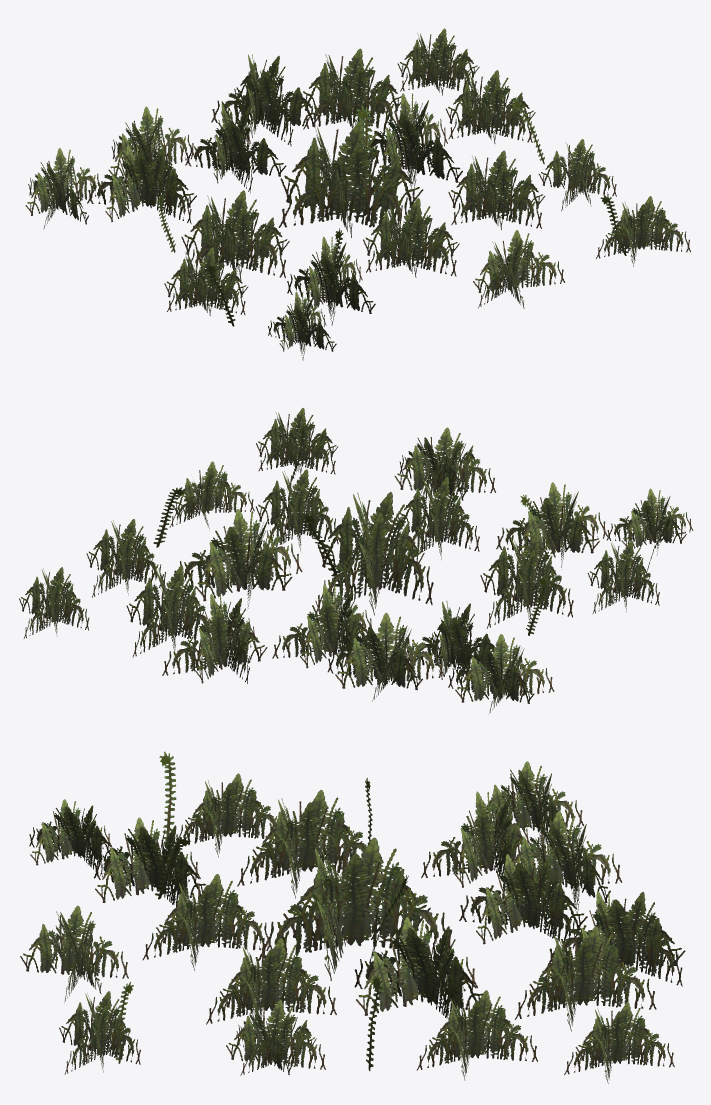
The model's file is grass2_7.obj.
3 renders of one model, top to bottom at view 1: azimuth 30°, elevation 25°; view 2: azimuth 150°, elevation 25°; view 3: azimuth 270°, elevation 25°, orthographic. The views are drawn at different scales.
Visible parts, largest first — view 1: Object002, Object005, Object035, Object026, Object046, Object016, Object029, Object038, Object034, Object017, Object012, Object028 (+32 smaller); view 2: Object005, Object004, Object015, Object014, Object047, Object037, Object045, Object011, Object041, Object028, Object021, Object033 (+33 smaller); view 3: Object002, Object004, Object027, Object035, Object014, Object013, Object026, Object036, Object016, Object030, Object039, Object032 (+40 smaller).
Part boxes in pixels (box(x1,y1,x2,y2)): Object002: box(280, 119, 411, 236); Object005: box(278, 143, 423, 227); Object035: box(181, 190, 285, 278); Object026: box(302, 48, 400, 130); Object046: box(211, 71, 321, 126); Object016: box(363, 112, 462, 182); Object029: box(363, 198, 456, 276); Object038: box(448, 150, 541, 228); Object034: box(185, 120, 286, 176); Object017: box(87, 152, 196, 207); Object012: box(473, 230, 565, 292); Object028: box(303, 65, 401, 129); Object005: box(317, 492, 433, 604); Object004: box(315, 512, 424, 615); Object015: box(173, 526, 292, 590); Object014: box(195, 509, 302, 601); Object047: box(335, 613, 444, 688); Object037: box(480, 533, 573, 617); Object045: box(162, 610, 267, 675); Object011: box(394, 427, 495, 493); Object041: box(455, 634, 554, 702); Object028: box(126, 565, 212, 642); Object021: box(496, 498, 599, 553); Object033: box(272, 600, 370, 658); Object002: box(258, 853, 430, 961); Object004: box(283, 837, 452, 954); Object027: box(529, 926, 656, 1009); Object035: box(237, 802, 362, 886); Object014: box(354, 928, 482, 1009); Object013: box(20, 905, 128, 978); Object026: box(515, 938, 635, 1019); Object036: box(252, 790, 382, 873); Object016: box(356, 917, 477, 1015); Object030: box(156, 874, 272, 950); Object039: box(220, 938, 336, 1014); Object032: box(459, 863, 587, 930).
Bounding box in the file's own units: 2797 × 572 × 2888.
1 material, 1 textured.
